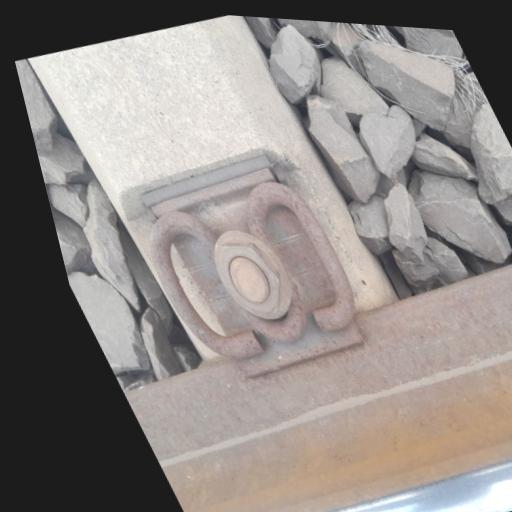bolt: (178, 214, 321, 344)
clip: (83, 126, 413, 414)
